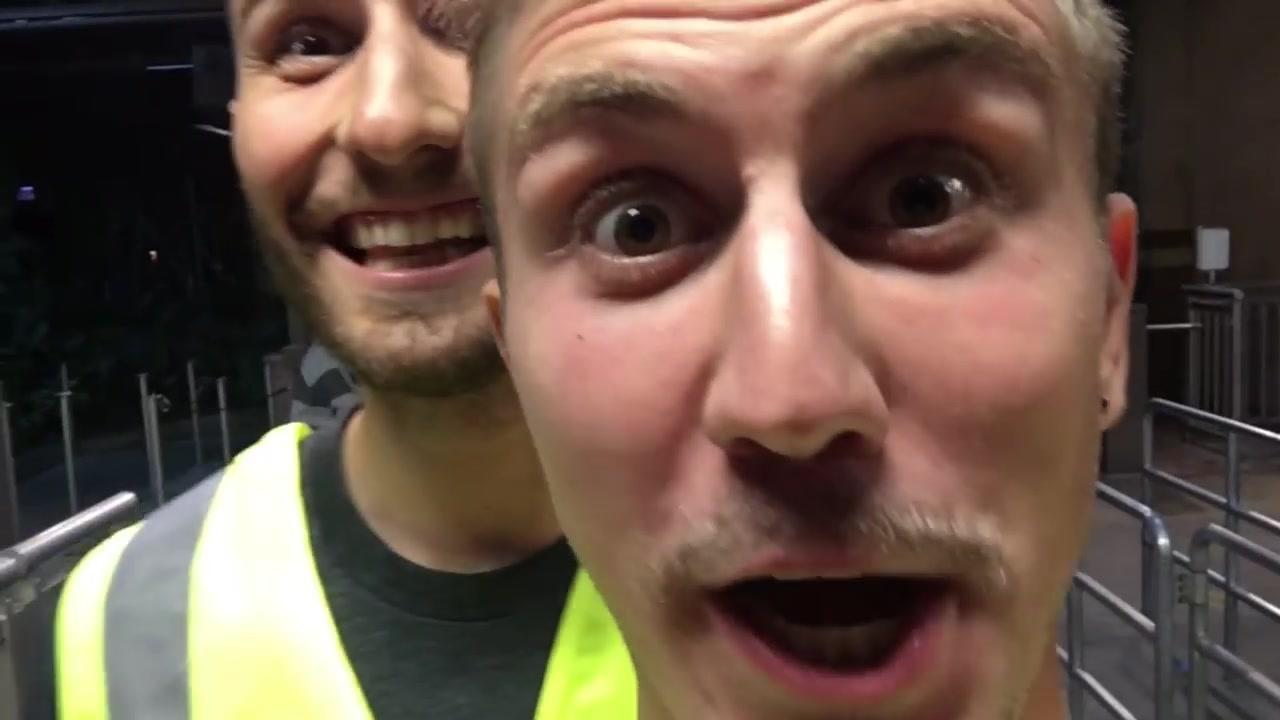vest: (53, 416, 641, 719)
